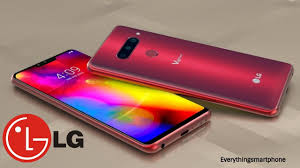lg: (85, 23, 295, 120)
